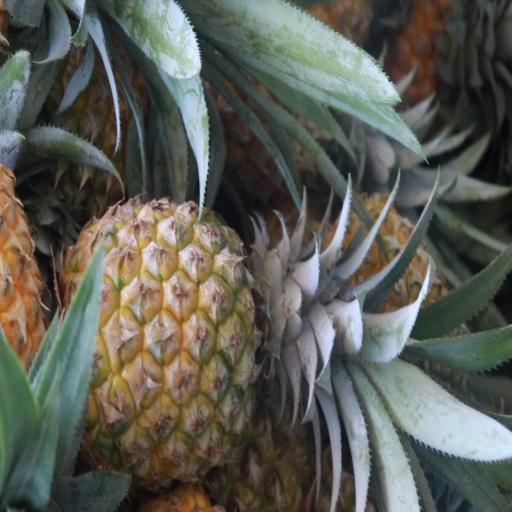Pineapple - v8 v1: (68, 196, 277, 475)
